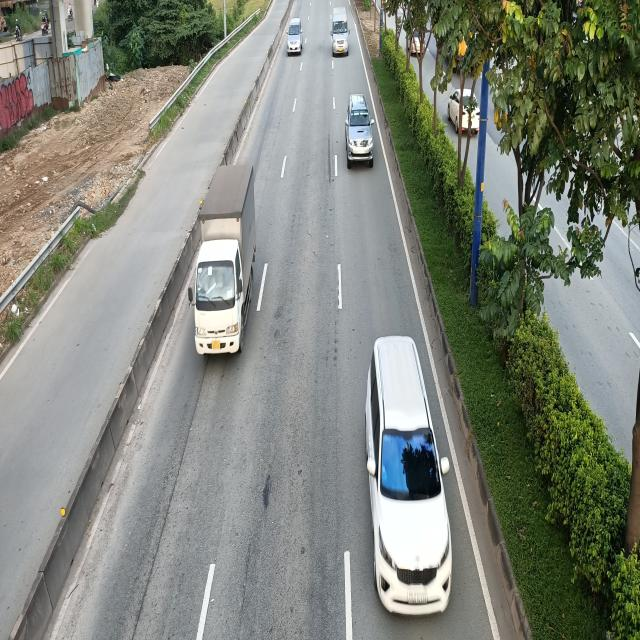car: (366, 332, 455, 618), (345, 95, 376, 169), (286, 18, 302, 55)
truck: (187, 162, 255, 356)
van: (332, 9, 351, 57)
